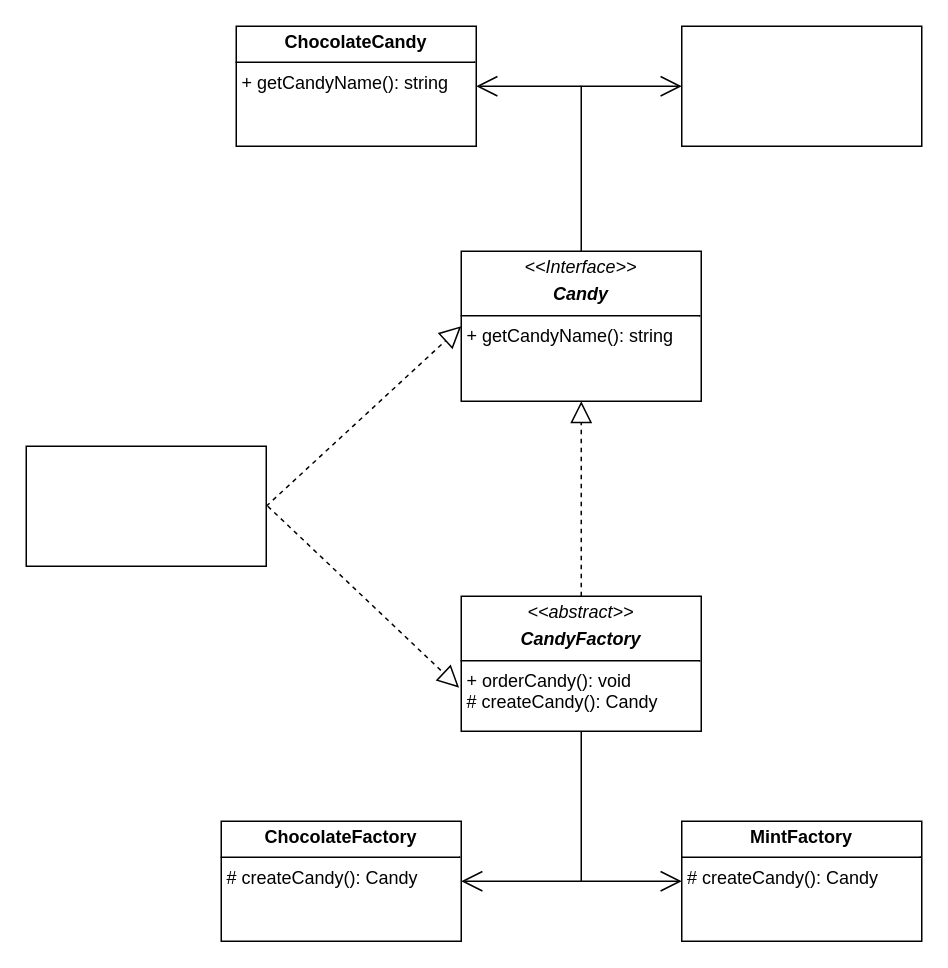
The diagram is 948 pixels wide and 968 high, and some of its shapes have lost their labels. The centre of each missing label's shape, as x and y in pixels:
Client + main() : void: the point at 145,505
MintCandy + getCandyName(): string: the point at 801,85
